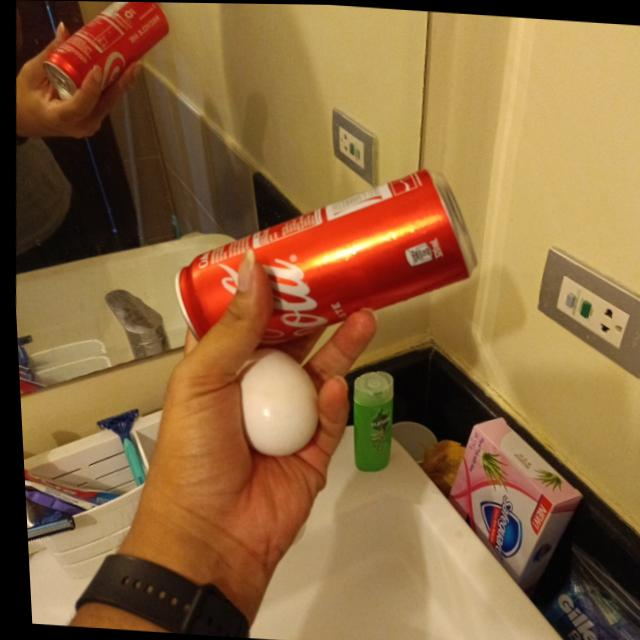coke: (164, 147, 483, 357), (39, 0, 173, 106)
egg: (227, 348, 319, 456)
